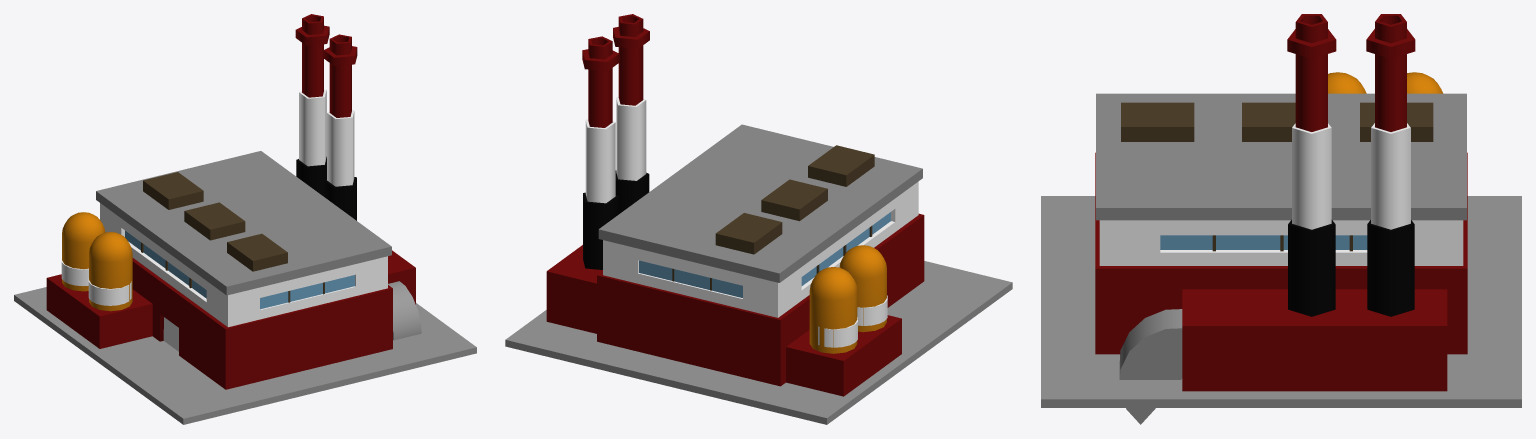
File: Fabryka II.FBX
3 views of the same model, side by side, from view 1: azimuth 30°, elevation 25°; view 2: azimuth 150°, elevation 25°; view 3: azimuth 270°, elevation 25° (orthographic). The views are drawn at different scales.
Parts seen in each view (by area): view 1: Box004, Box002, Plane001, Box001, Box027, Capsule002, Cylinder005, Cylinder009, Capsule003, Box003, Cylinder010, Box006 (+11 smaller); view 2: Box004, Plane001, Box002, Box001, Box027, Box029, Capsule003, Cylinder005, Cylinder009, Capsule002, Box003, Cylinder010 (+10 smaller); view 3: Plane001, Box004, Box029, Box002, Box001, Cylinder008, Cylinder004, Cylinder003, Cylinder005, Cylinder009, Cylinder010, Cylinder006 (+8 smaller).
Part boxes in pixels (left/top/right/bottom): Box004: left=96, top=151, right=391, bottom=295; Box002: left=132, top=258, right=392, bottom=389; Plane001: left=14, top=287, right=476, bottom=424; Box001: left=100, top=203, right=387, bottom=351; Box027: left=46, top=274, right=152, bottom=348; Capsule002: left=89, top=232, right=132, bottom=311; Cylinder005: left=299, top=89, right=326, bottom=166; Cylinder009: left=327, top=110, right=354, bottom=186; Capsule003: left=62, top=212, right=105, bottom=291; Box003: left=125, top=230, right=354, bottom=309; Cylinder010: left=329, top=34, right=351, bottom=117; Box006: left=184, top=202, right=245, bottom=240; Box004: left=598, top=124, right=922, bottom=282; Plane001: left=505, top=261, right=1012, bottom=424; Box002: left=597, top=213, right=924, bottom=386; Box001: left=603, top=181, right=918, bottom=317; Box027: left=786, top=315, right=901, bottom=396; Box029: left=546, top=245, right=602, bottom=333; Capsule003: left=809, top=267, right=857, bottom=353; Cylinder005: left=585, top=119, right=615, bottom=203; Cylinder009: left=616, top=97, right=646, bottom=180; Capsule002: left=839, top=245, right=886, bottom=332; Box003: left=639, top=212, right=890, bottom=297; Cylinder010: left=618, top=14, right=643, bottom=105; Plane001: left=1041, top=196, right=1521, bottom=407; Box004: left=1096, top=93, right=1466, bottom=220; Box029: left=1182, top=289, right=1447, bottom=391; Box002: left=1095, top=152, right=1467, bottom=354; Box001: left=1099, top=220, right=1463, bottom=265; Cylinder008: left=1288, top=219, right=1335, bottom=316; Cylinder004: left=1367, top=220, right=1414, bottom=316; Cylinder003: left=1119, top=309, right=1182, bottom=424; Cylinder005: left=1371, top=123, right=1410, bottom=229; Cylinder009: left=1292, top=123, right=1331, bottom=229; Cylinder010: left=1295, top=14, right=1327, bottom=131; Cylinder006: left=1375, top=14, right=1406, bottom=131.
Bounding box in the file's own units: 1 × 0.9102 × 1.
